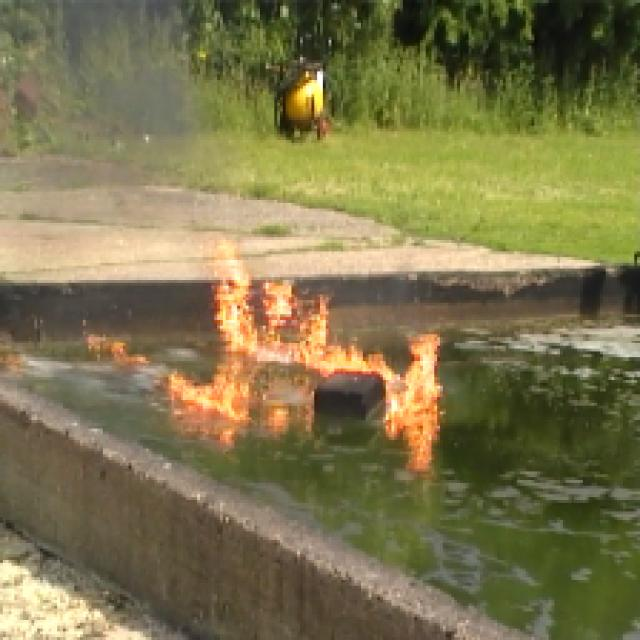fire: (216, 273, 442, 463), (84, 333, 144, 368), (166, 372, 213, 409)
smoke: (55, 10, 195, 215)
